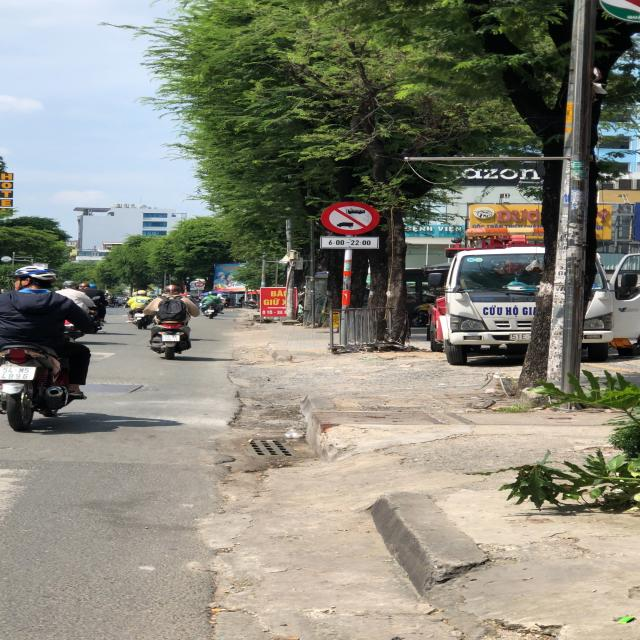Bien bao cam xe oto khach va xe oto tai: (317, 200, 385, 234)
